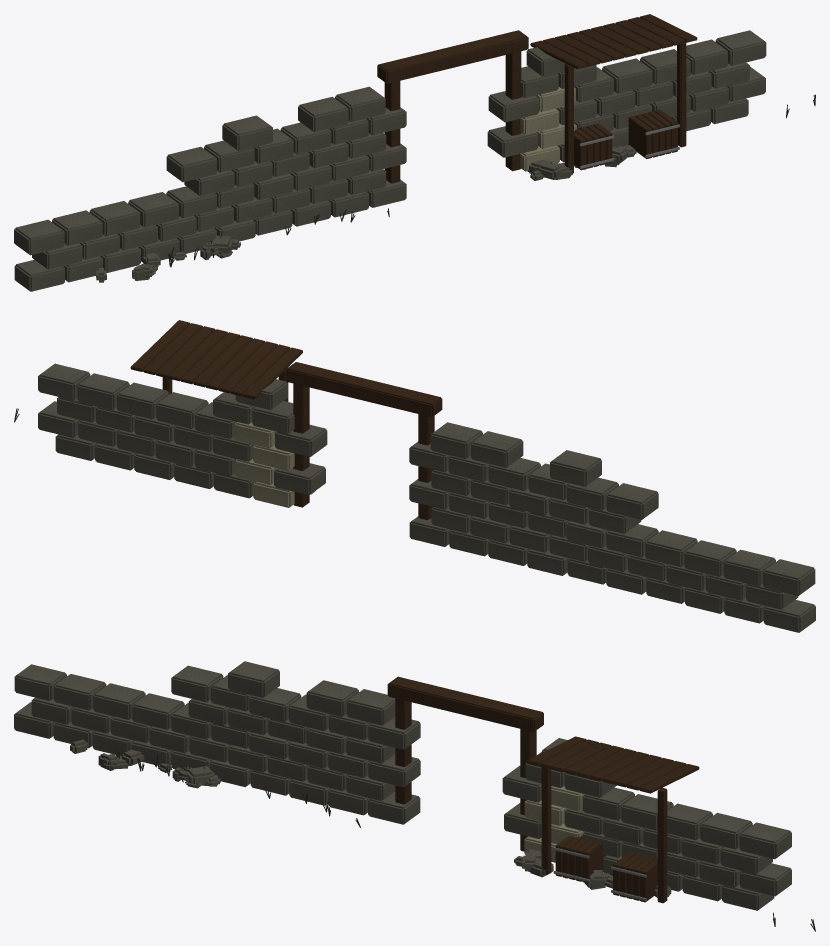
The model's file is waystation-v1.glb.
3 views of the same model, one above another, from view 1: azimuth 30°, elevation 25°; view 2: azimuth 150°, elevation 25°; view 3: azimuth 330°, elevation 25° (orthographic). The views are drawn at different scales.
Parts seen in each view (by area): view 1: Weathered local masonry, Aged timber, Pale repaired masonry; view 2: Weathered local masonry, Aged timber, Pale repaired masonry; view 3: Weathered local masonry, Aged timber, Pale repaired masonry, Waystation dull iron.
Boxes of the visible parts, <box> form: Weathered local masonry: <box>14,30,766,291</box>; Aged timber: <box>377,14,697,183</box>; Pale repaired masonry: <box>520,87,576,171</box>; Weathered local masonry: <box>38,363,815,632</box>; Aged timber: <box>130,320,442,519</box>; Pale repaired masonry: <box>234,422,294,507</box>; Weathered local masonry: <box>14,661,791,910</box>; Aged timber: <box>387,676,699,903</box>; Pale repaired masonry: <box>524,786,584,862</box>; Waystation dull iron: <box>553,847,646,900</box>.
Size of what is drawn, in the model's own units: 18.08 by 3.01 by 1.89.
5 materials, 4 textured.
